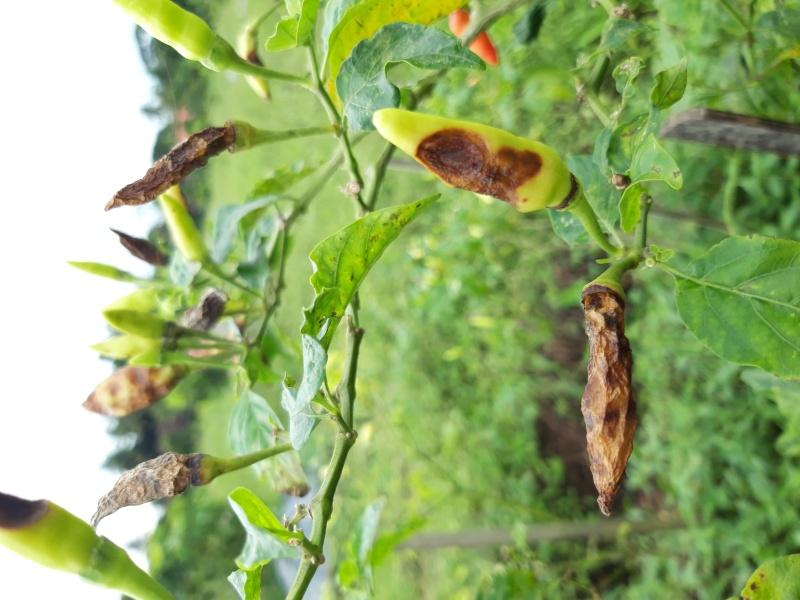antraknosa: (374, 109, 570, 215), (580, 290, 638, 514), (104, 124, 230, 210), (89, 451, 204, 532), (1, 491, 100, 574)
cabai_normal: (112, 0, 220, 63)
